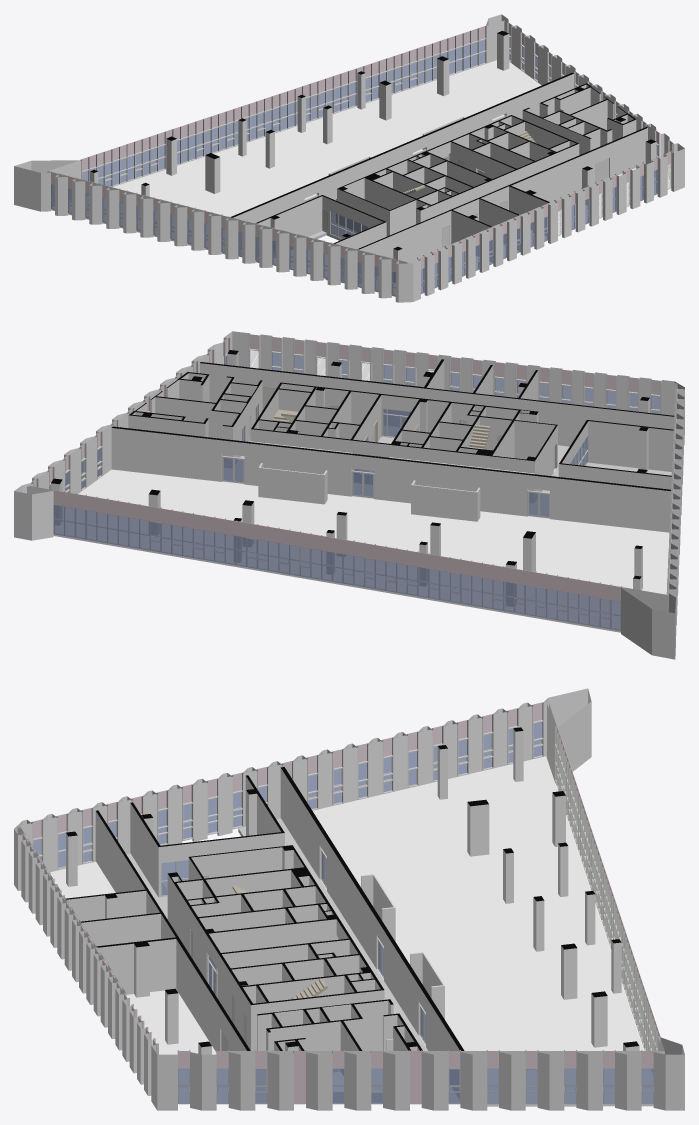
3 renders of one model, top to bottom at view 1: azimuth 30°, elevation 25°; view 2: azimuth 150°, elevation 25°; view 3: azimuth 270°, elevation 25°, orthographic. The views are drawn at different scales.
Visible parts, largest first — view 1: A7_5F_Wall001, A7_5F_outWall001, A7_5F_Floor001, A7_5F_Window001, A7_5F_WindowFrame001, A7_5F_GlassDoor001, A7_5F_Door001; view 2: A7_5F_Wall001, A7_5F_Floor001, A7_5F_Window001, A7_5F_outWall001, A7_5F_WindowFrame001, A7_5F_GlassDoor001, A7_5F_Stairs001, A7_5F_Door001; view 3: A7_5F_Wall001, A7_5F_Floor001, A7_5F_outWall001, A7_5F_Window001, A7_5F_WindowFrame001, A7_5F_GlassDoor001.
Boxes of the visible parts, box(x1,y1,x2,y2) form: A7_5F_Wall001: box(90, 31, 656, 283); A7_5F_outWall001: box(14, 14, 684, 302); A7_5F_Floor001: box(51, 60, 669, 296); A7_5F_Window001: box(51, 22, 673, 296); A7_5F_WindowFrame001: box(51, 22, 673, 296); A7_5F_GlassDoor001: box(304, 115, 581, 238); A7_5F_Door001: box(322, 148, 609, 247); A7_5F_Wall001: box(50, 350, 674, 606); A7_5F_Floor001: box(54, 426, 671, 632); A7_5F_Window001: box(31, 334, 677, 630); A7_5F_outWall001: box(14, 331, 684, 659); A7_5F_WindowFrame001: box(31, 334, 677, 630); A7_5F_GlassDoor001: box(222, 406, 588, 518); A7_5F_Stairs001: box(273, 409, 490, 449); A7_5F_Door001: box(242, 386, 556, 470); A7_5F_Wall001: box(66, 727, 639, 1102); A7_5F_Floor001: box(49, 756, 653, 1106); A7_5F_outWall001: box(14, 688, 684, 1110); A7_5F_Window001: box(22, 702, 660, 1103); A7_5F_WindowFrame001: box(23, 702, 659, 1104); A7_5F_GlassDoor001: box(161, 848, 425, 1043).
Bounding box in the file's own units: 62.12 × 4.61 × 48.09.
